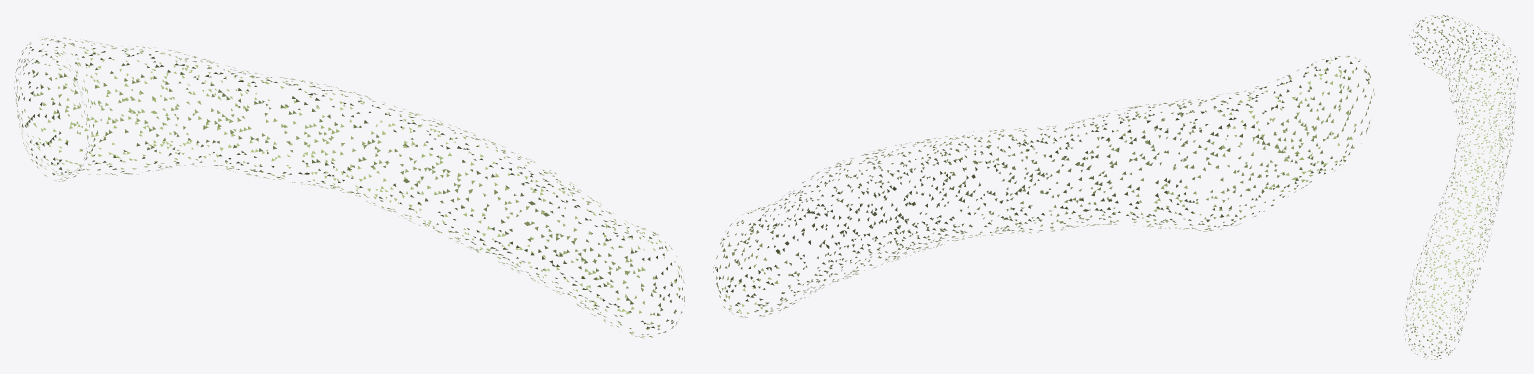
The model's file is morph_011.glb.
3 views of the same model, side by side, from view 1: azimuth 30°, elevation 25°; view 2: azimuth 150°, elevation 25°; view 3: azimuth 270°, elevation 25° (orthographic). The views are drawn at different scales.
Size of the model in its own units: 115 by 70.44 by 36.76.
